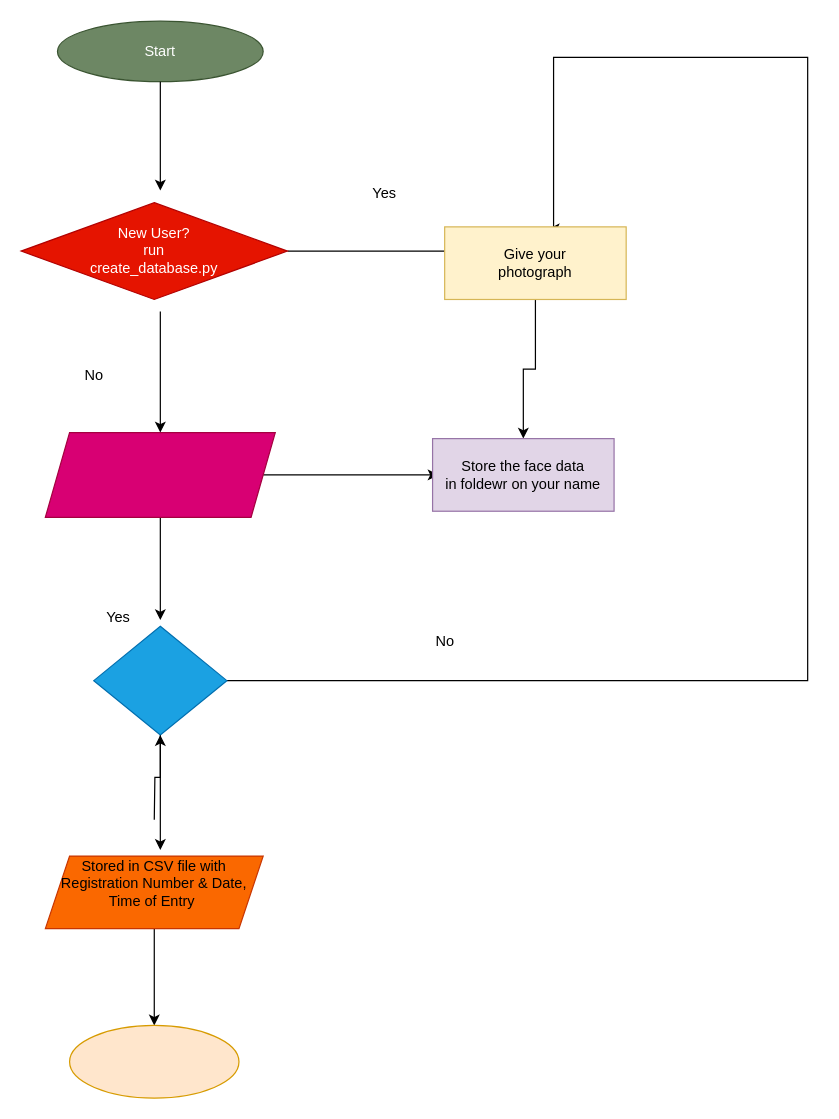
This 839x1119 diagram has some shape labels left out. The box of each missing label's shape, as (x1, y1, x2, y2) in pixels:
End: (68, 1024, 239, 1098)
Face Recognized: (93, 625, 227, 735)
Recognize the face run face_recognize.py: (44, 431, 275, 517)
